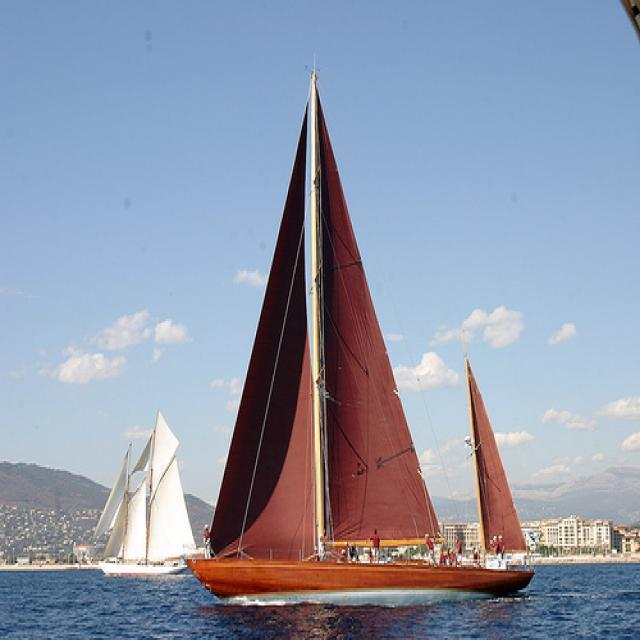Ship: (200, 67, 539, 607), (82, 424, 203, 582)
